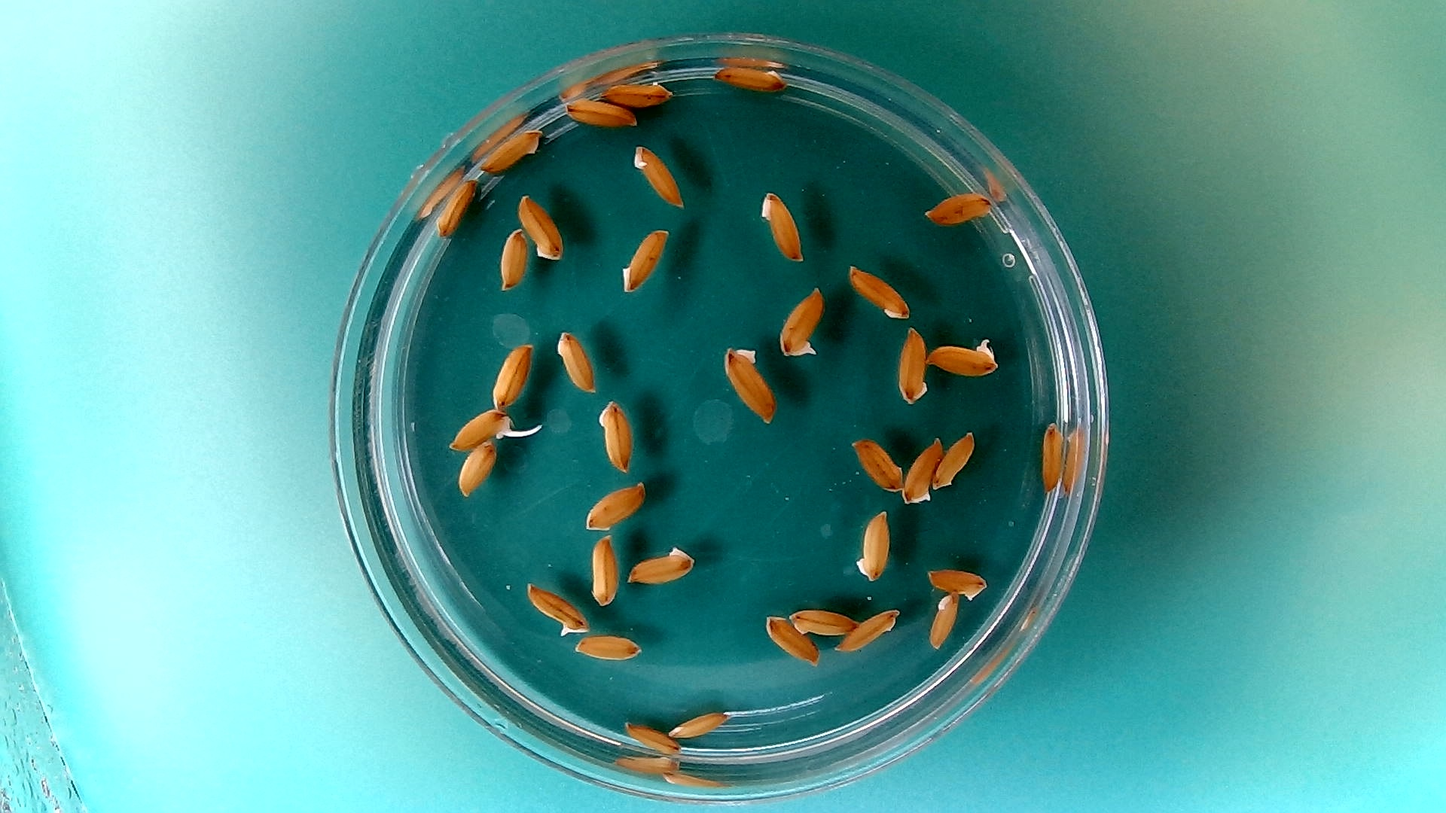no: (719, 340, 780, 428), (844, 260, 911, 321), (617, 223, 671, 294), (630, 141, 685, 210), (758, 187, 805, 265), (514, 191, 565, 262), (581, 477, 648, 531), (488, 337, 536, 410), (761, 611, 823, 666), (595, 394, 637, 474), (834, 604, 901, 654), (624, 541, 698, 586), (899, 434, 944, 507), (848, 434, 905, 491), (851, 504, 892, 583), (478, 123, 542, 172), (432, 174, 480, 239), (893, 322, 929, 406), (553, 326, 597, 394), (923, 186, 995, 226), (932, 428, 977, 491), (455, 437, 499, 499), (587, 531, 620, 609), (596, 75, 676, 107), (563, 96, 639, 129), (923, 565, 990, 602), (621, 717, 683, 756), (496, 224, 530, 293), (571, 630, 643, 662), (713, 64, 792, 93), (926, 589, 962, 652), (787, 605, 857, 637), (1038, 419, 1065, 496), (666, 708, 729, 740)
yes: (776, 282, 827, 361), (522, 579, 591, 635), (445, 405, 517, 453), (924, 333, 1002, 376)
